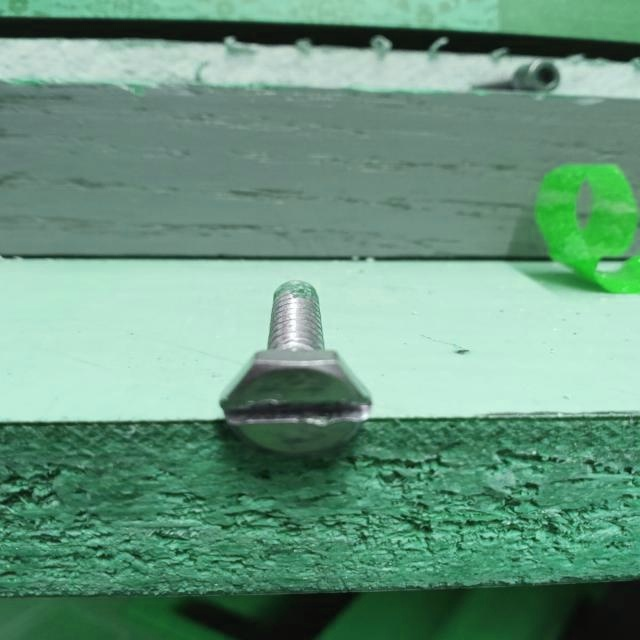duz: (216, 350, 375, 458)
